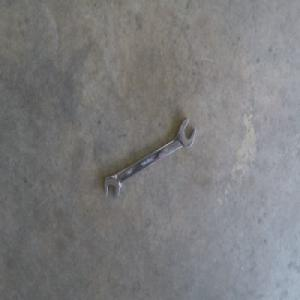Wrench: (104, 118, 196, 201)
